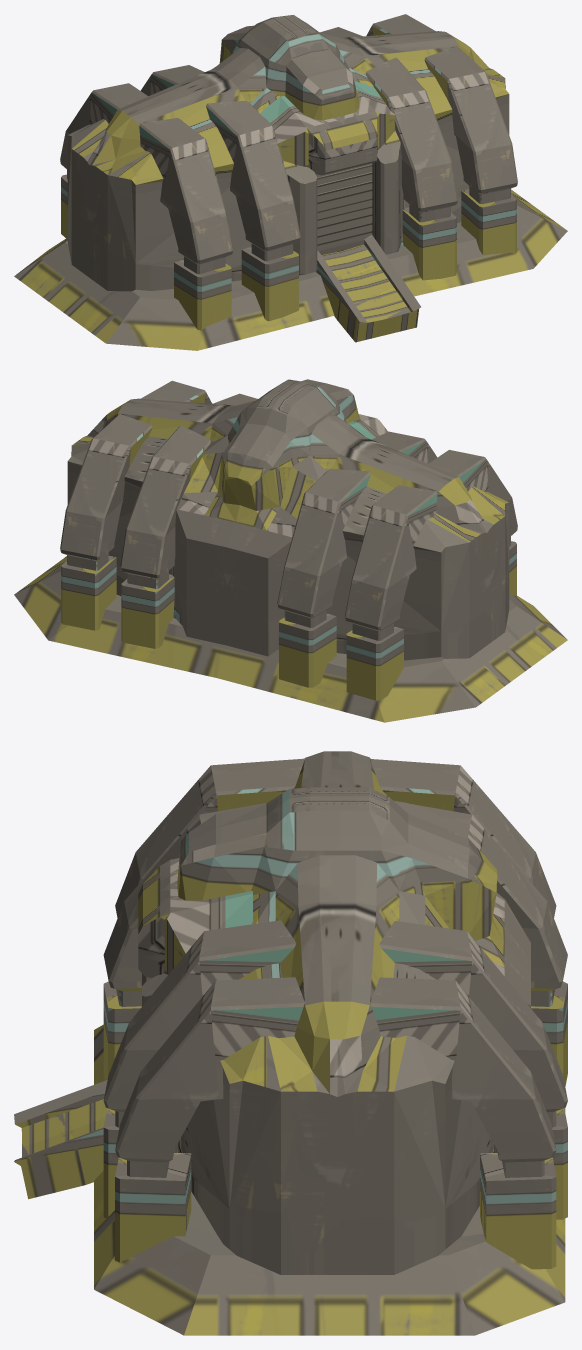
The model's file is armory.dae.
3 views of the same model, one above another, from view 1: azimuth 30°, elevation 25°; view 2: azimuth 150°, elevation 25°; view 3: azimuth 270°, elevation 25° (orthographic). The views are drawn at different scales.
Parts seen in each view (by area): view 1: human_barrack; view 2: human_barrack; view 3: human_barrack.
Part boxes in pixels (x1,y1,x2,y2): human_barrack: (14, 14, 567, 350); human_barrack: (14, 379, 567, 722); human_barrack: (14, 751, 567, 1335).
Size of the model in its own units: 31.1 by 20.4 by 15.41.
